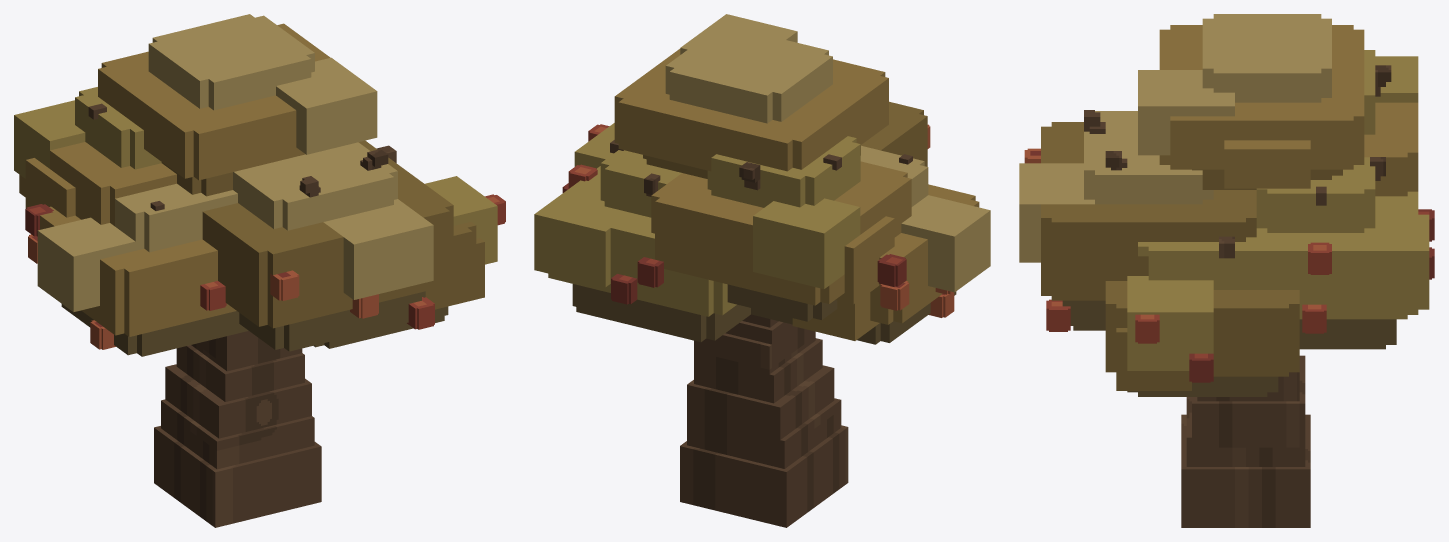
Rendered from apple_mature_autumn_fruiting_2.glb.
3 views of the same model, side by side, from view 1: azimuth 30°, elevation 25°; view 2: azimuth 150°, elevation 25°; view 3: azimuth 270°, elevation 25° (orthographic). The views are drawn at different scales.
Parts seen in each view (by area): view 1: VoxelVisual; view 2: VoxelVisual; view 3: VoxelVisual.
Boxes of the visible parts, <box> form: VoxelVisual: <box>14,14,505,527</box>; VoxelVisual: <box>534,14,990,527</box>; VoxelVisual: <box>1019,14,1434,527</box>.
Size of what is drawn, in the model's own units: 11.62 by 11.75 by 9.62.
